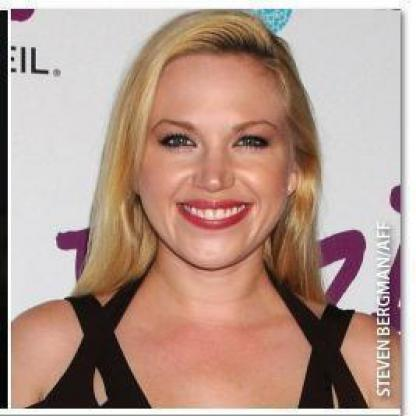long-hair: (69, 270, 338, 299)
